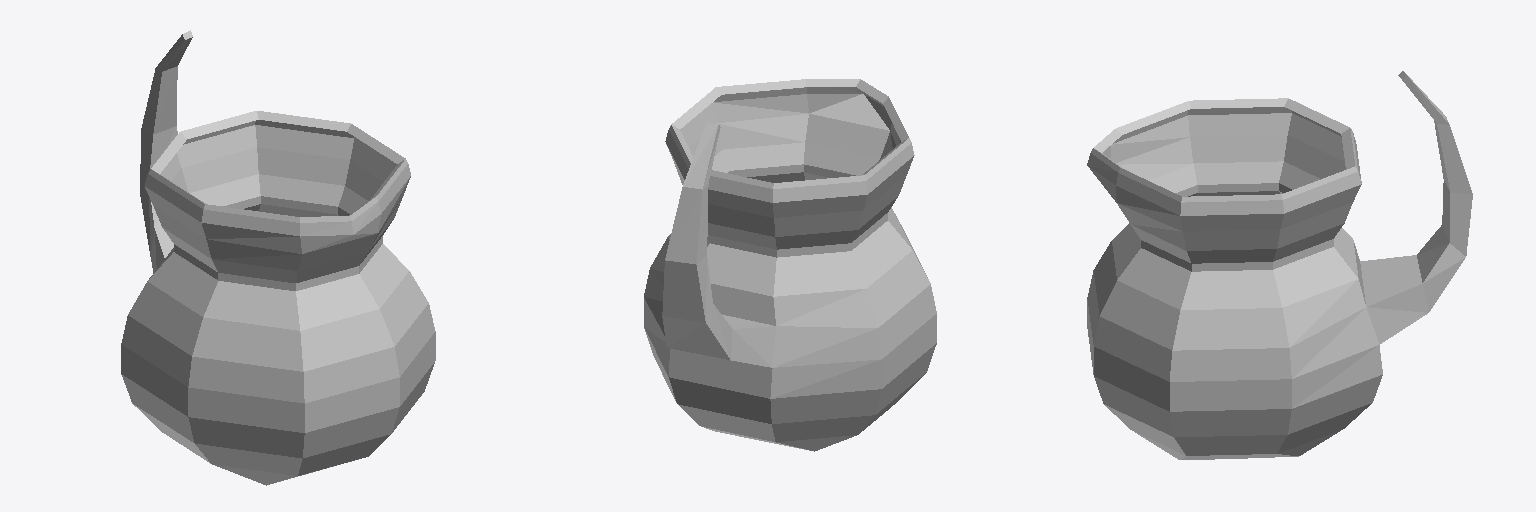
The model's file is LowPolyJarrónFinal.obj.
3 renders of one model, left to right at view 1: azimuth 30°, elevation 25°; view 2: azimuth 150°, elevation 25°; view 3: azimuth 270°, elevation 25°, orthographic.
Parts seen in each view (by area): view 1: LowPoly; view 2: LowPoly; view 3: LowPoly.
Boxes of the visible parts, x1,y1,x2,y2 form: LowPoly: [121, 30, 435, 485]; LowPoly: [644, 79, 936, 451]; LowPoly: [1087, 71, 1472, 459].
Size of the model in its own units: 65.33 by 90.29 by 87.89.